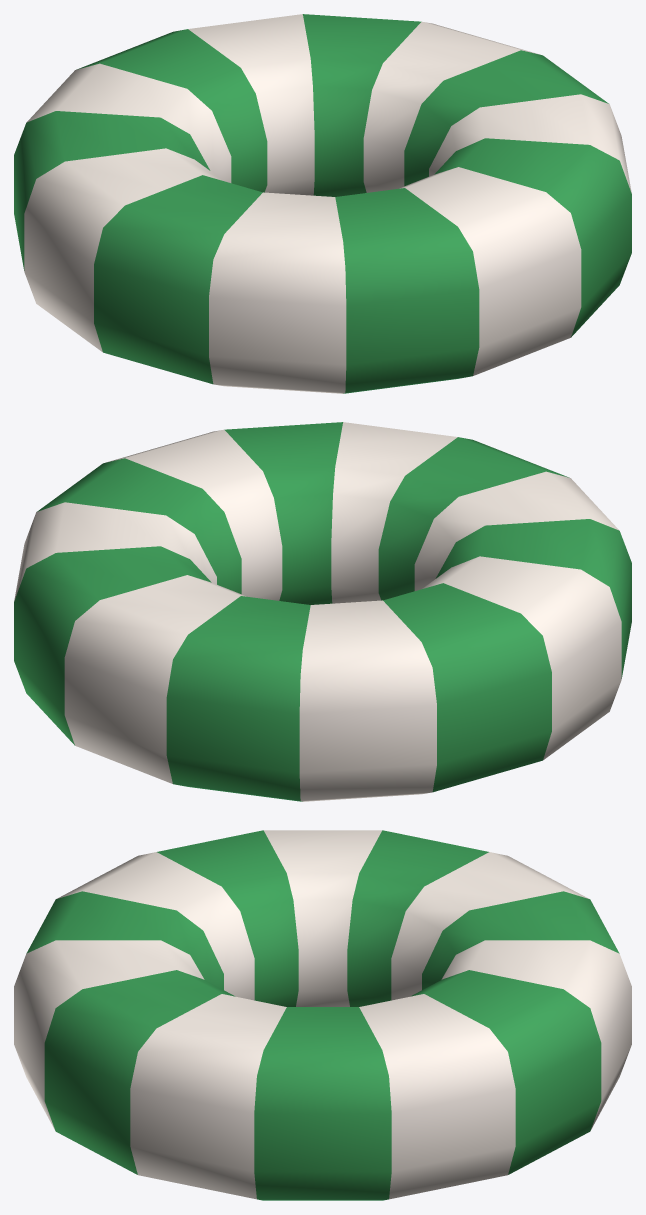
The model's file is candy_hard_5.fbx.
3 views of the same model, one above another, from view 1: azimuth 30°, elevation 25°; view 2: azimuth 150°, elevation 25°; view 3: azimuth 270°, elevation 25° (orthographic).
Visible parts, largest first — view 1: c_h_5; view 2: c_h_5; view 3: c_h_5.
Part boxes in pixels (bbox=[...]): c_h_5: bbox=[14, 14, 631, 393]; c_h_5: bbox=[14, 422, 631, 801]; c_h_5: bbox=[14, 830, 631, 1200].
Size of the model in its own units: 156 by 42.99 by 160.
